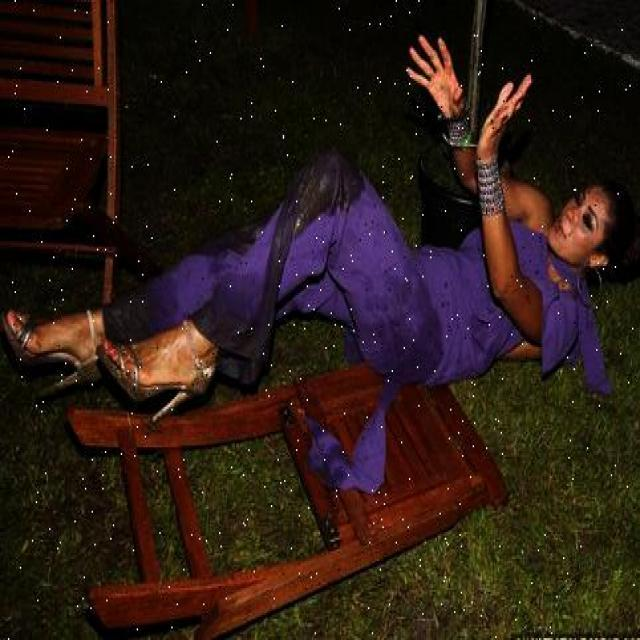fall: (126, 123, 638, 404)
